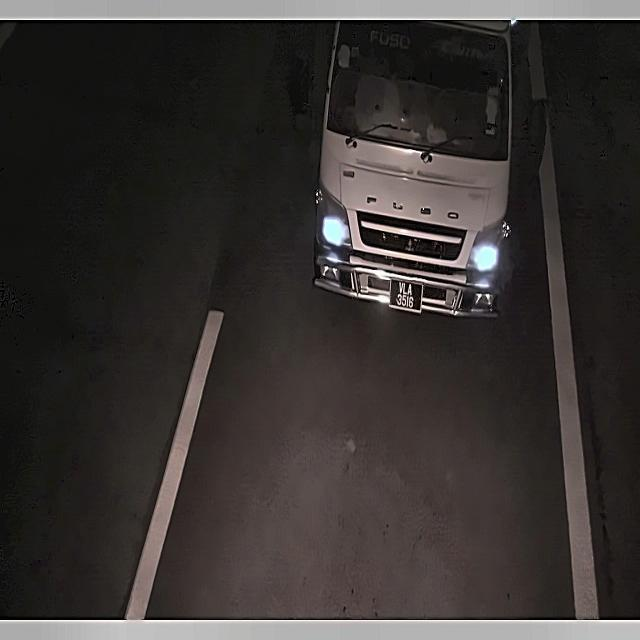car: (389, 276, 422, 316)
